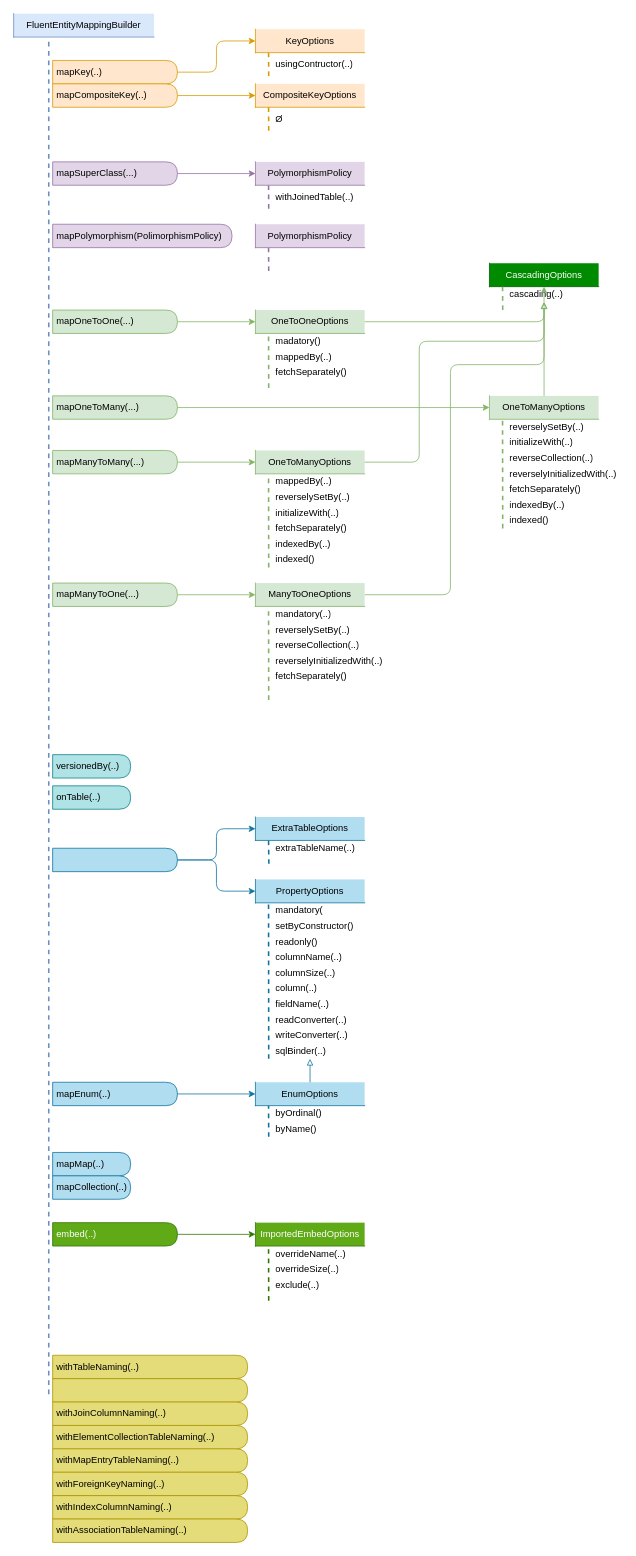
This 636x1556 diagram has some shape labels left out. Here are the shapes that lost their labels. From the top down, the centre of each, then its label:
At point 114,859: "map(..)".
At point 150,1390: "withColumnNaming(..)".
